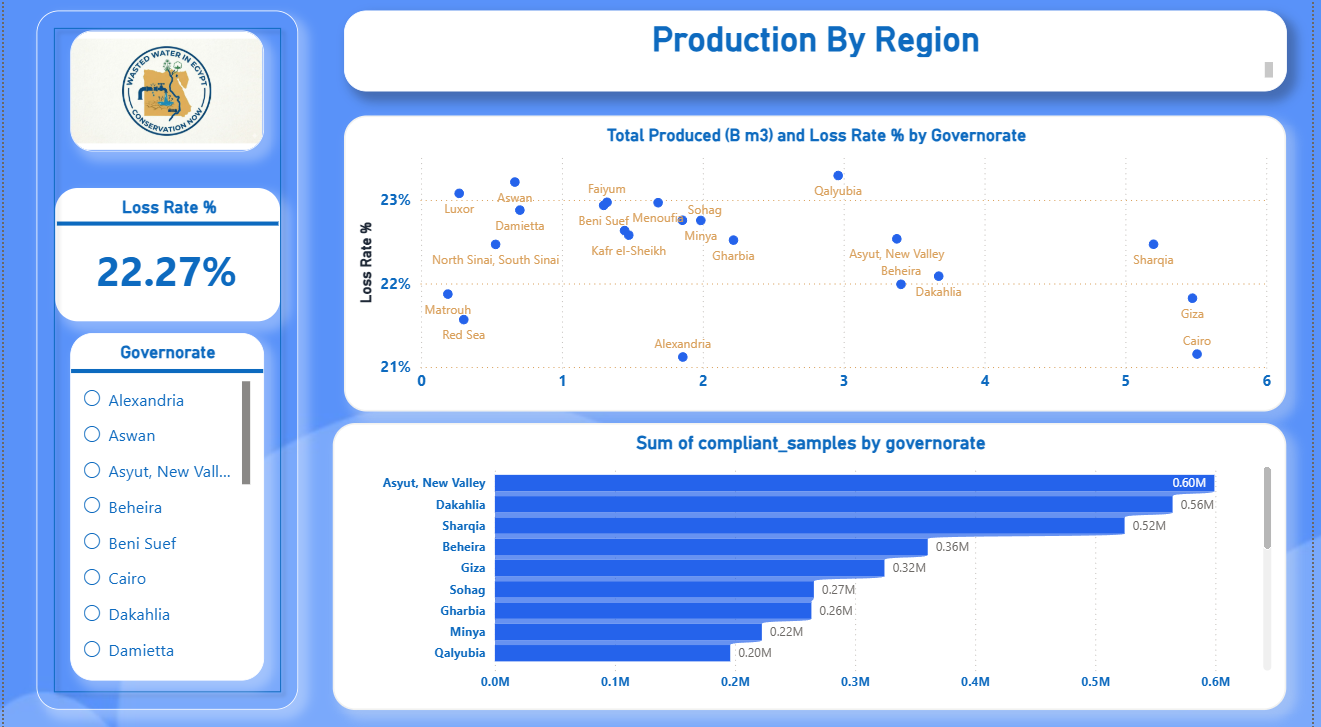

This screenshot's page, from the dashboard's own definition file:
{"tool":"powerbi","page":{"name":"produ\\region","canvas":[1280,720],"ordinal":3},"visuals":[{"type":"scatterChart","title":"Total Produced (B m3) and Loss Rate % by Governorate","fields":{"Category":["Dim_Company.governorate"],"X":["_Measures.Total Produced (B m3)"],"Y":["_Measures.Loss Rate %"]},"box":[332.6,119.5,921.6,289.4],"z":0},{"type":"barChart","fields":{"Category":["Quality_Tests$.governorate"],"Y":["Sum(Quality_Tests$.compliant_samples)"]},"box":[321.5,420.1,932.7,280.6],"z":1000},{"type":"cardVisual","title":"Loss Rate %","fields":{"Data":["_Measures.Loss Rate %"]},"box":[50,191.1,219.9,130.4],"z":2000},{"type":"shape","box":[31.8,16.7,256.3,684],"z":3000},{"type":"image","box":[65.2,36.4,189.6,118.3],"z":4000},{"type":"listSlicer","title":"Governorate","fields":{"Values":["Dim_Company.governorate"]},"box":[65.2,332.1,189.6,339.7],"z":5000},{"type":"textbox","title":"Production By Region","box":[332.1,16.7,922.1,78.9],"z":6000}]}

Visuals, with their boxes in screenshot pixels (x1, y1, x2, y2), scaled from the page's 1280x720 canvas onto the 1321x727 screenshot:
"Total Produced (B m3) and Loss Rate % by Governorate" scatterChart: [343,121,1294,413]
barChart - Quality_Tests$.governorate x Sum(Quality_Tests$.compliant_samples): [332,424,1294,708]
"Loss Rate %" cardVisual: [52,193,279,325]
shape: [33,17,297,708]
image: [67,37,263,156]
"Governorate" listSlicer: [67,335,263,678]
"Production By Region" textbox: [343,17,1294,97]
